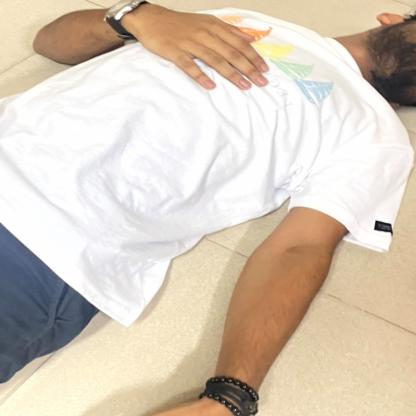hand: (155, 196, 356, 416), (32, 2, 280, 92)
